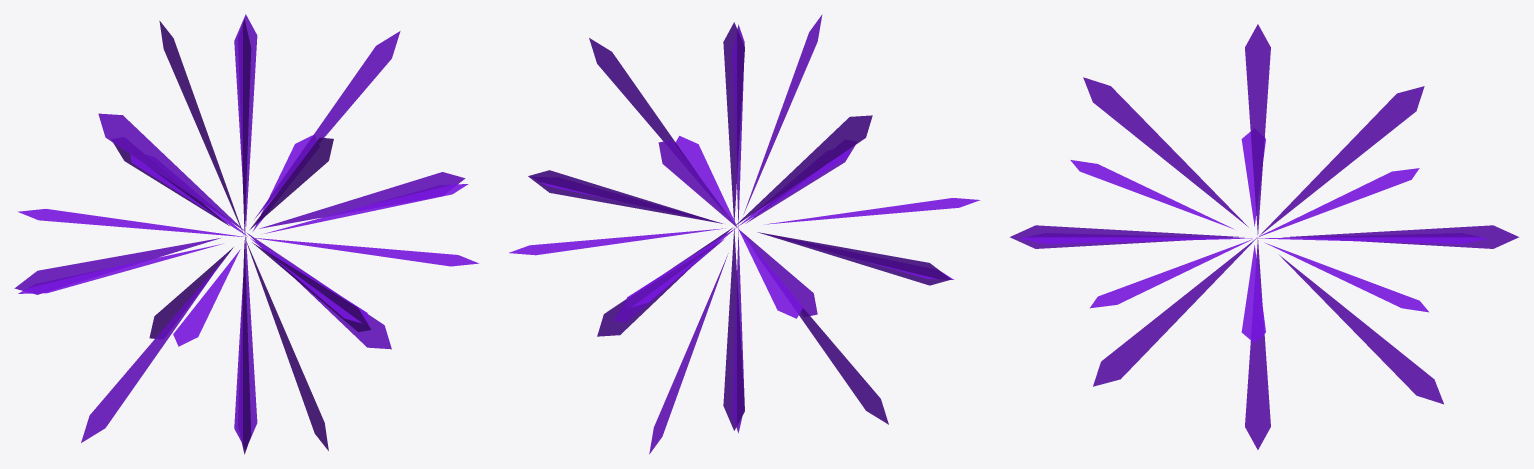
The model's file is model_3019_npc.obj.
The picture shows the model from 3 angles, left to right: view 1: azimuth 30°, elevation 25°; view 2: azimuth 150°, elevation 25°; view 3: azimuth 270°, elevation 25°; orthographic projection. The views are drawn at different scales.
Visible parts, largest first — view 1: 3019; view 2: 3019; view 3: 3019.
Boxes of the visible parts, x1,y1,x2,y2 form: 3019: [14, 14, 478, 454]; 3019: [509, 14, 980, 454]; 3019: [1009, 24, 1519, 449].
Bounding box in the file's own units: 312 × 290 × 312.
